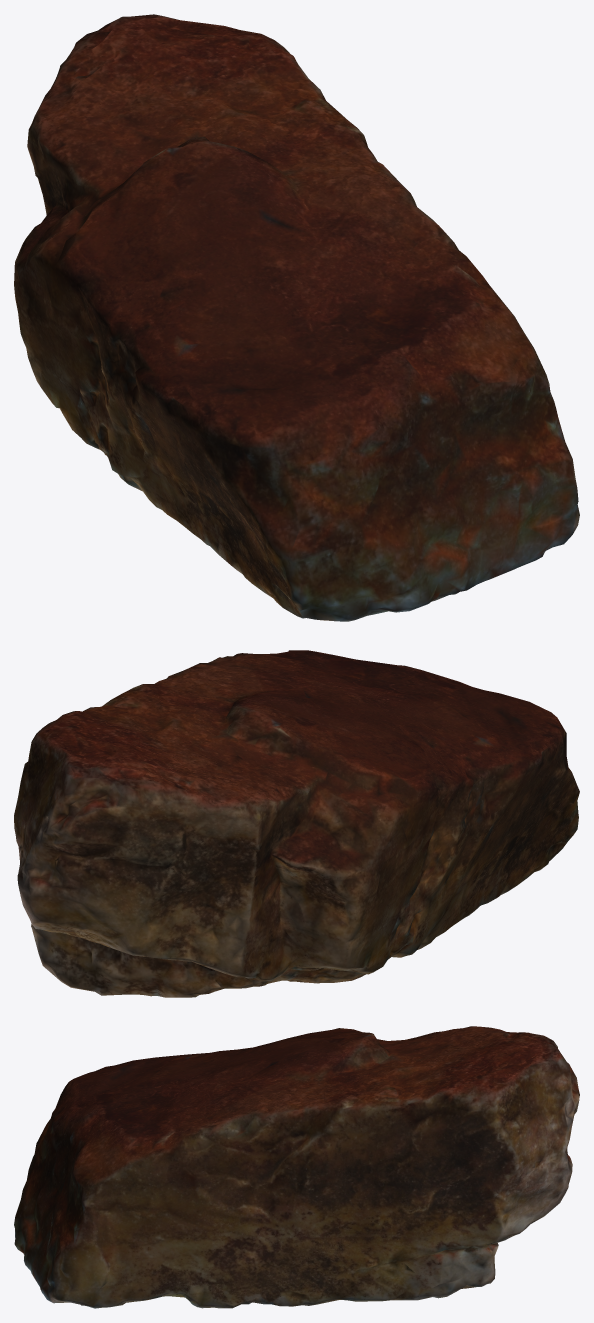
File: rock_07.glb
The picture shows the model from 3 angles, top to bottom: view 1: azimuth 30°, elevation 25°; view 2: azimuth 150°, elevation 25°; view 3: azimuth 270°, elevation 25°; orthographic projection. The views are drawn at different scales.
Parts seen in each view (by area): view 1: rock_07; view 2: rock_07; view 3: rock_07.
Boxes of the visible parts, x1,y1,x2,y2 form: rock_07: [14, 14, 579, 621]; rock_07: [14, 650, 579, 997]; rock_07: [14, 1026, 579, 1308].
Bounding box in the file's own units: 0.1689 × 0.1437 × 0.3203.
Materials: 1 (1 with a texture image).
